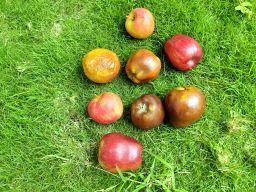apple: (89, 132, 155, 175), (164, 83, 213, 137), (127, 85, 169, 141), (123, 43, 170, 91), (76, 45, 125, 90), (162, 29, 205, 74), (80, 86, 126, 128), (119, 4, 163, 41)
